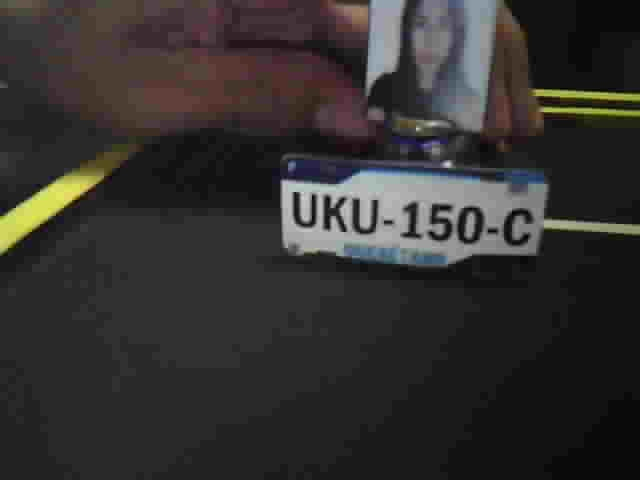PLACA: (277, 152, 551, 279)
ROSTRO: (367, 1, 485, 126)
